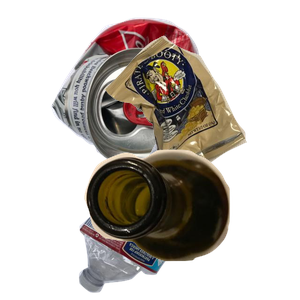glass: (82, 147, 300, 300)
metal: (48, 15, 251, 175)
plastic: (76, 131, 280, 300)
trash: (101, 33, 300, 206)
